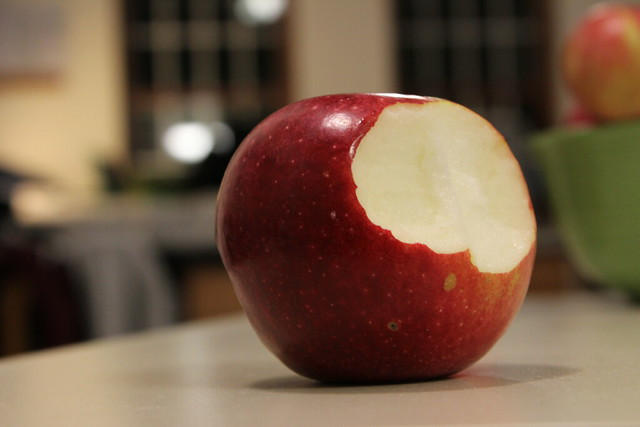apple: (210, 89, 539, 388)
